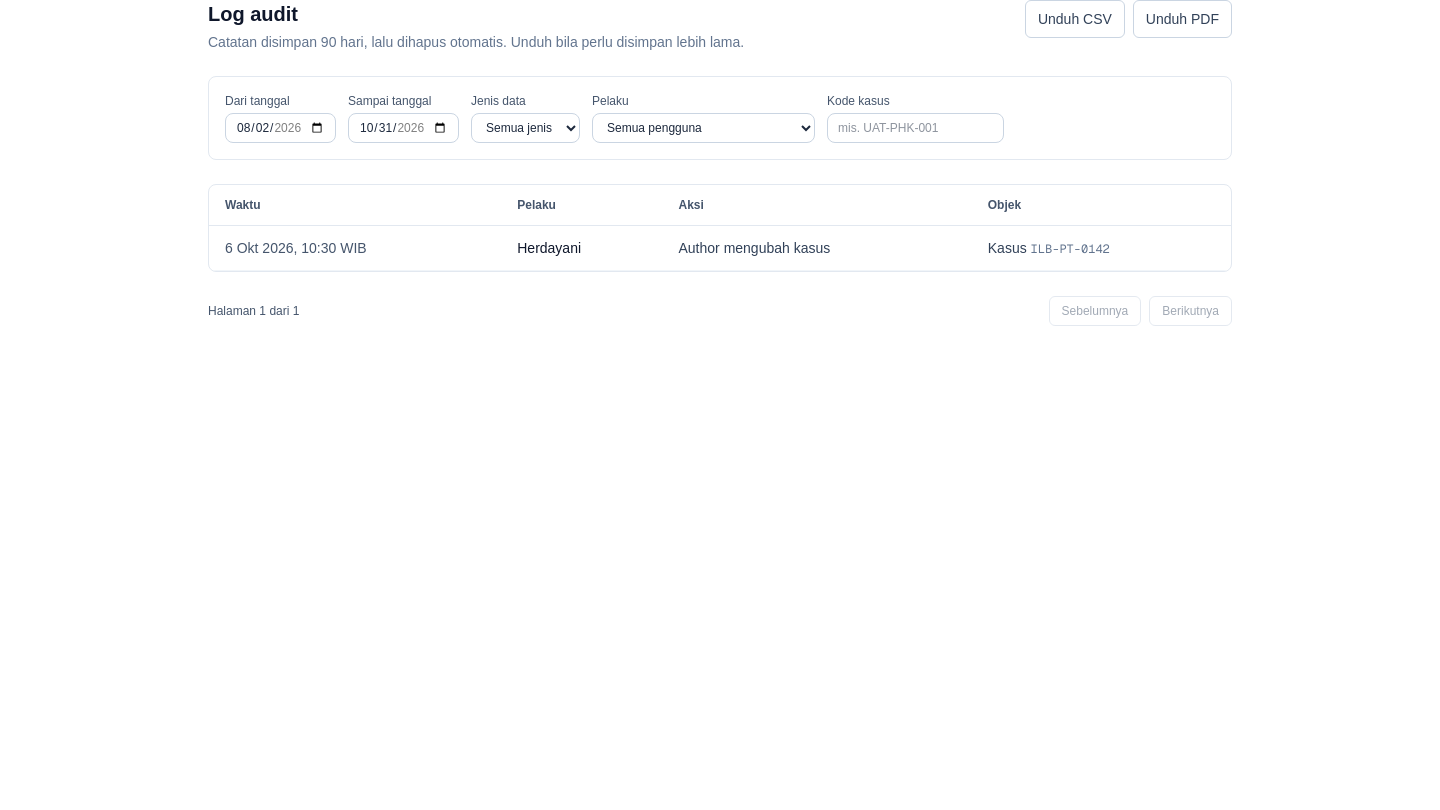
AuditPage (SCRUM-141) › opens the detail panel when a row is clicked
Expected: the text "ILB-PT-0142" is shown, [1031,241,1110,257]
Click the row "Author mengubah kasus".
click(720, 248)  # box [209,226,1231,270]
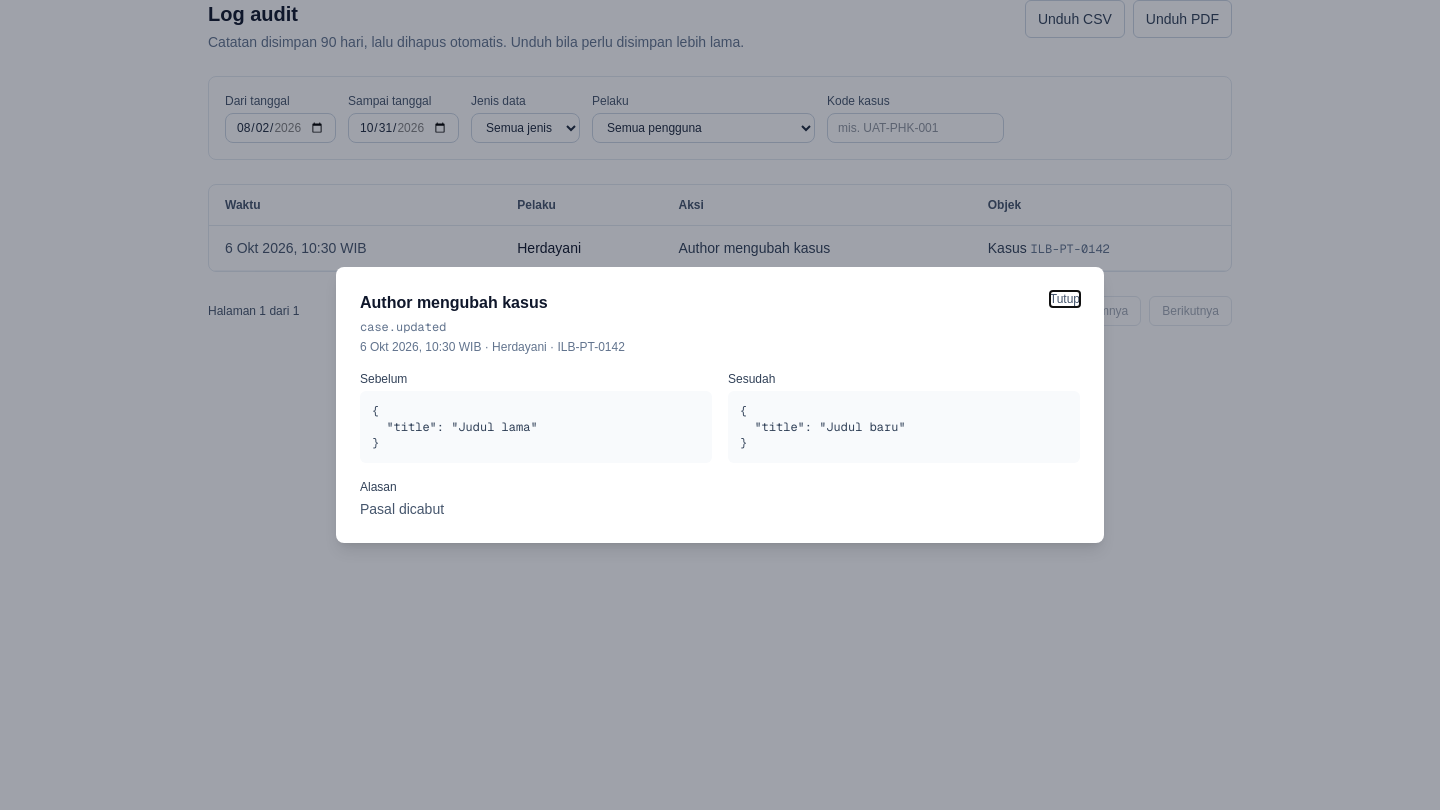
Result: the dialog named "Detail catatan audit" shows "Judul lama" at [372,403,538,451]
